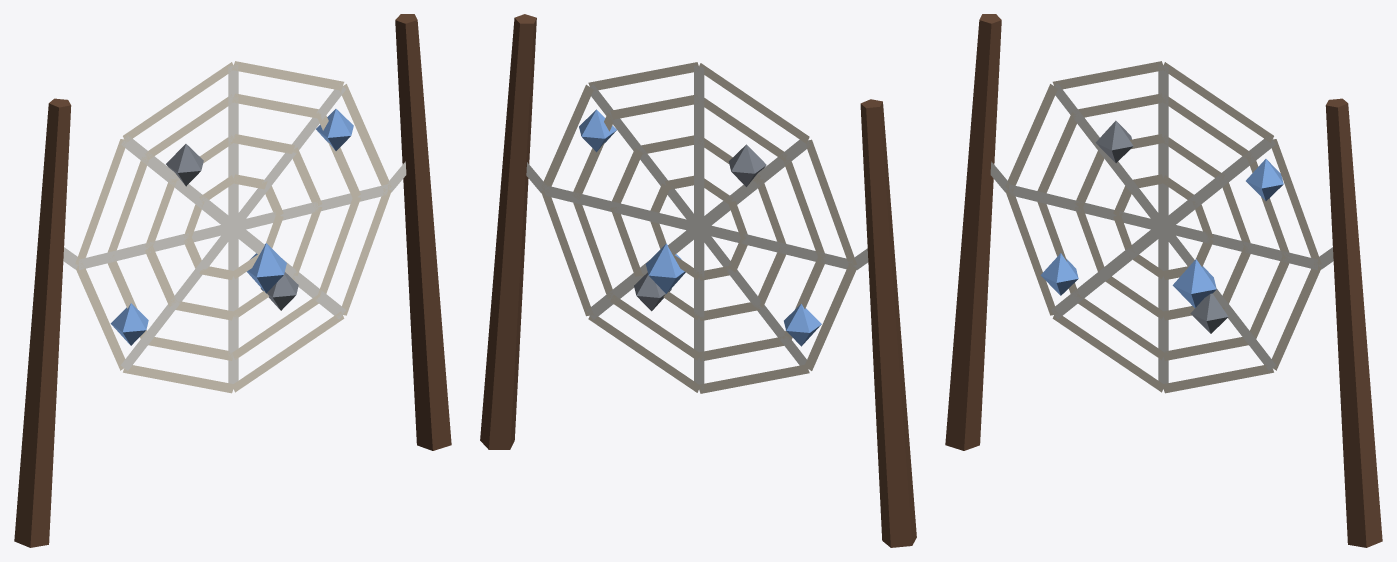
File: deco_spider_web.obj
The picture shows the model from 3 angles, left to right: view 1: azimuth 30°, elevation 25°; view 2: azimuth 150°, elevation 25°; view 3: azimuth 330°, elevation 25°; orthographic projection.
Parts seen in each view (by area): view 1: deco_spider_web; view 2: deco_spider_web; view 3: deco_spider_web.
Boxes of the visible parts, x1,y1,x2,y2 form: deco_spider_web: (14,14,451,547); deco_spider_web: (480,14,916,547); deco_spider_web: (945,14,1382,547).
Size of the model in its own units: 0.0462 by 0.0442 by 0.00418.
1 material, 1 textured.
